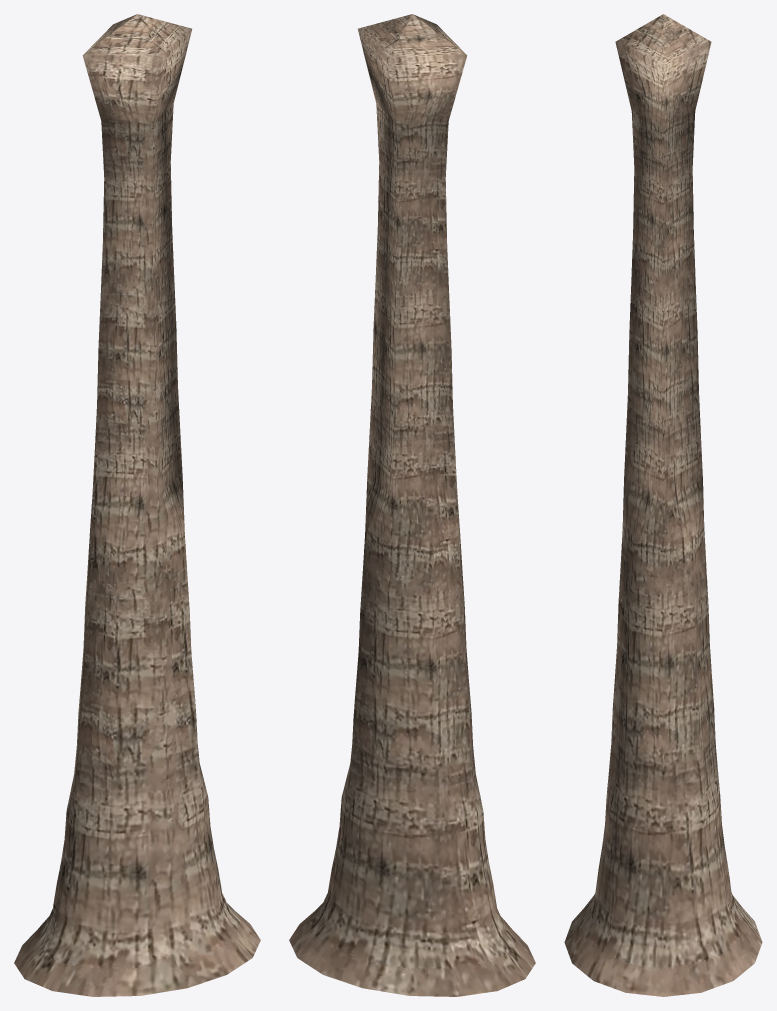
Rendered from m_palm_p2_7_trunk_0.001_lev2.glb.
3 views of the same model, side by side, from view 1: azimuth 30°, elevation 25°; view 2: azimuth 150°, elevation 25°; view 3: azimuth 270°, elevation 25° (orthographic).
Visible parts, largest first — view 1: m_palm_p2_7_trunk_0.001_lev2; view 2: m_palm_p2_7_trunk_0.001_lev2; view 3: m_palm_p2_7_trunk_0.001_lev2.
Boxes of the visible parts, left/top/right/bottom form: m_palm_p2_7_trunk_0.001_lev2: left=14, top=14, right=260, bottom=996; m_palm_p2_7_trunk_0.001_lev2: left=289, top=14, right=535, bottom=996; m_palm_p2_7_trunk_0.001_lev2: left=564, top=14, right=762, bottom=996.
Bounding box in the file's own units: 0.4433 × 1.76 × 0.3401.
Materials: 1 (1 with a texture image).
